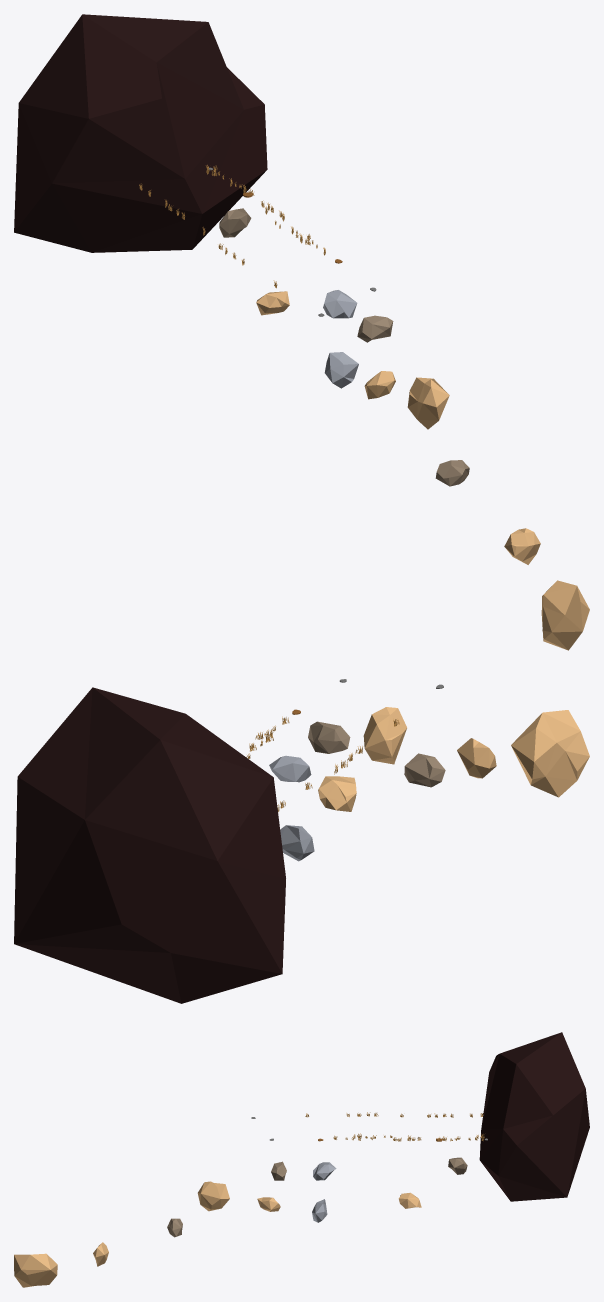
File: EnvironmentTainted.fbx
3 views of the same model, one above another, from view 1: azimuth 30°, elevation 25°; view 2: azimuth 150°, elevation 25°; view 3: azimuth 270°, elevation 25° (orthographic). The views are drawn at different scales.
Visible parts, largest first — view 1: EndRock, Rock 3.020, Rock 3.019, Rock 1.021, Rock 3.017; view 2: EndRock, Rock 3.020, Rock 3.019, Rock 3.016, Rock 2.019, Rock 3.017, Rock 2.018, Rock 1.021, Rock 1.022; view 3: EndRock, Rock 3.020, Rock 3.019.
Part boxes in pixels (x1=…): EndRock: x1=14, y1=14, x2=267, y2=252; Rock 3.020: x1=541, y1=580, x2=589, y2=650; Rock 3.019: x1=407, y1=377, x2=449, y2=429; Rock 1.021: x1=324, y1=352, x2=358, y2=388; Rock 3.017: x1=504, y1=528, x2=540, y2=564; EndRock: x1=14, y1=687, x2=285, y2=1003; Rock 3.020: x1=511, y1=710, x2=589, y2=797; Rock 3.019: x1=363, y1=707, x2=406, y2=764; Rock 3.016: x1=318, y1=776, x2=356, y2=811; Rock 2.019: x1=308, y1=721, x2=350, y2=753; Rock 3.017: x1=457, y1=738, x2=496, y2=778; Rock 2.018: x1=404, y1=753, x2=445, y2=787; Rock 1.021: x1=280, y1=825, x2=314, y2=861; Rock 1.022: x1=269, y1=755, x2=311, y2=782; EndRock: x1=479, y1=1032, x2=589, y2=1201; Rock 3.020: x1=14, y1=1253, x2=57, y2=1287; Rock 3.019: x1=197, y1=1181, x2=229, y2=1211.
Size of the model in its own units: 1091 by 1582 by 3564.
